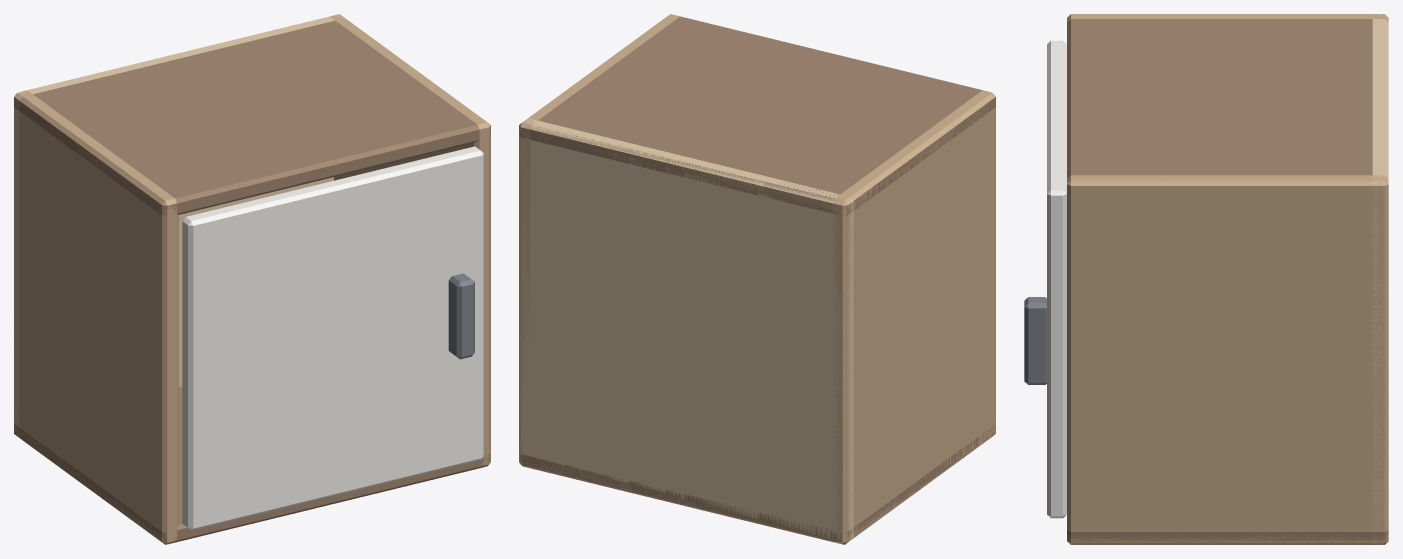
File: Door_1x1.glb
3 renders of one model, left to right at view 1: azimuth 30°, elevation 25°; view 2: azimuth 150°, elevation 25°; view 3: azimuth 270°, elevation 25°, orthographic. The views are drawn at different scales.
Visible parts, largest first — view 1: WallSysDoor11_Body, WallSysDoor11_Door; view 2: WallSysDoor11_Body; view 3: WallSysDoor11_Body, WallSysDoor11_Door.
Part boxes in pixels (x1,y1,x2,y2): WallSysDoor11_Body: [14, 14, 490, 544]; WallSysDoor11_Door: [182, 146, 483, 530]; WallSysDoor11_Body: [519, 14, 995, 544]; WallSysDoor11_Body: [1067, 14, 1388, 544]; WallSysDoor11_Door: [1024, 40, 1066, 518].
Size of the model in its own units: 0.4 by 0.4 by 0.3625.
